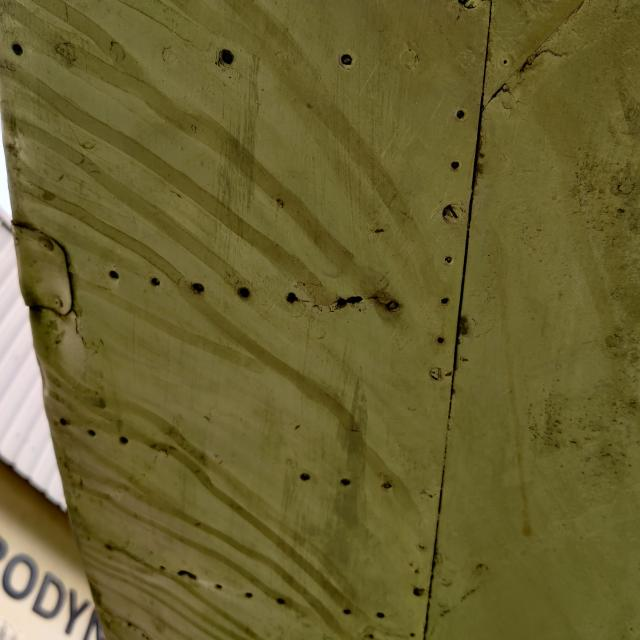crack: (321, 281, 370, 323), (172, 561, 206, 591)
